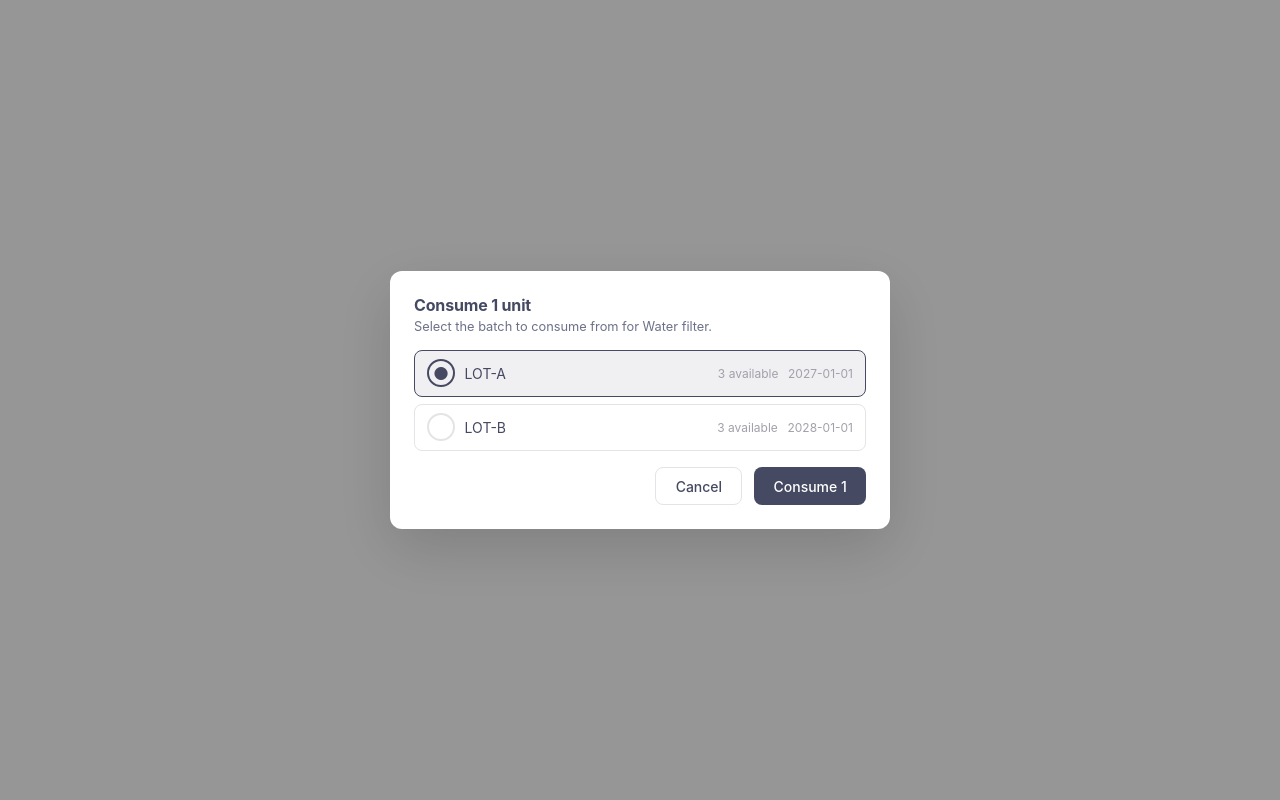
Test: LotPickerModal › surfaces a server error without closing the modal
This screenshot has width=1280, height=800.
Click the button "Consume 1": (810, 486) [754,467,866,505]
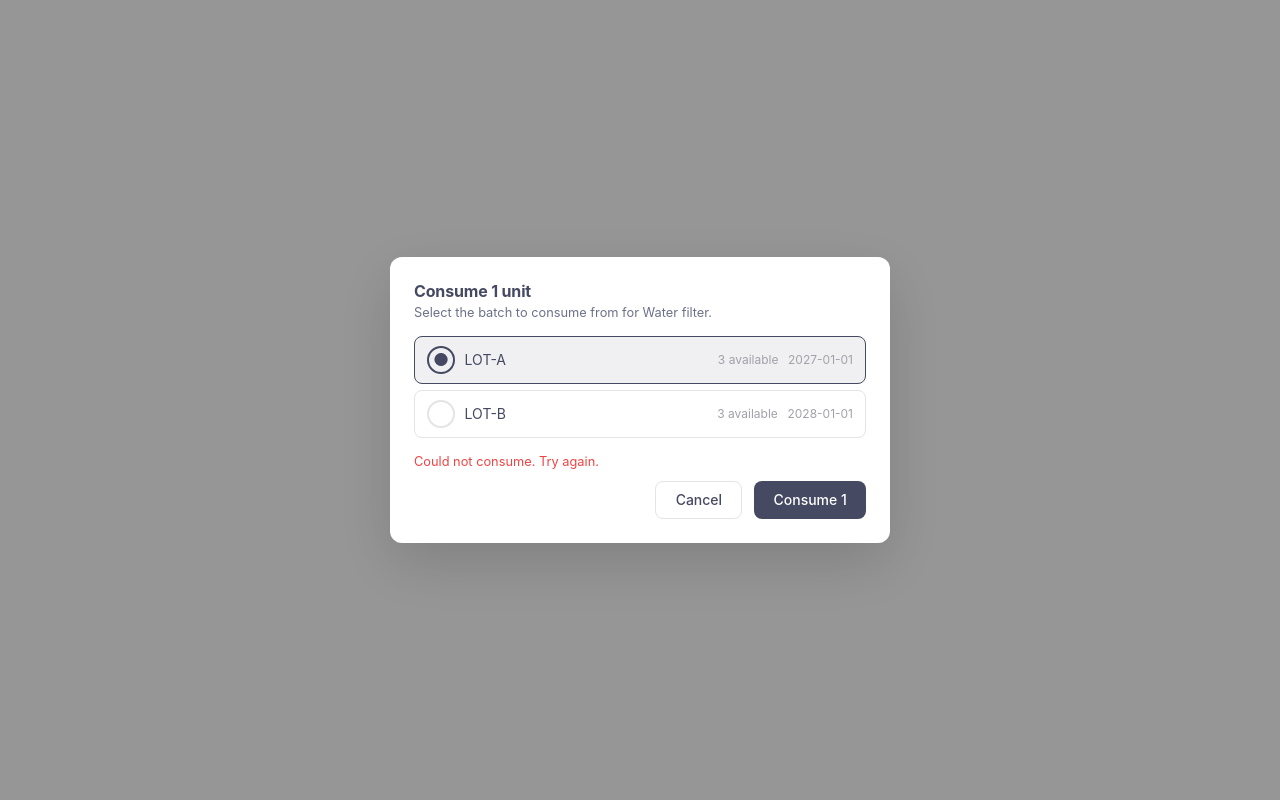
Result: the text "Could not consume. Try again." is shown at [414,454,599,469]
